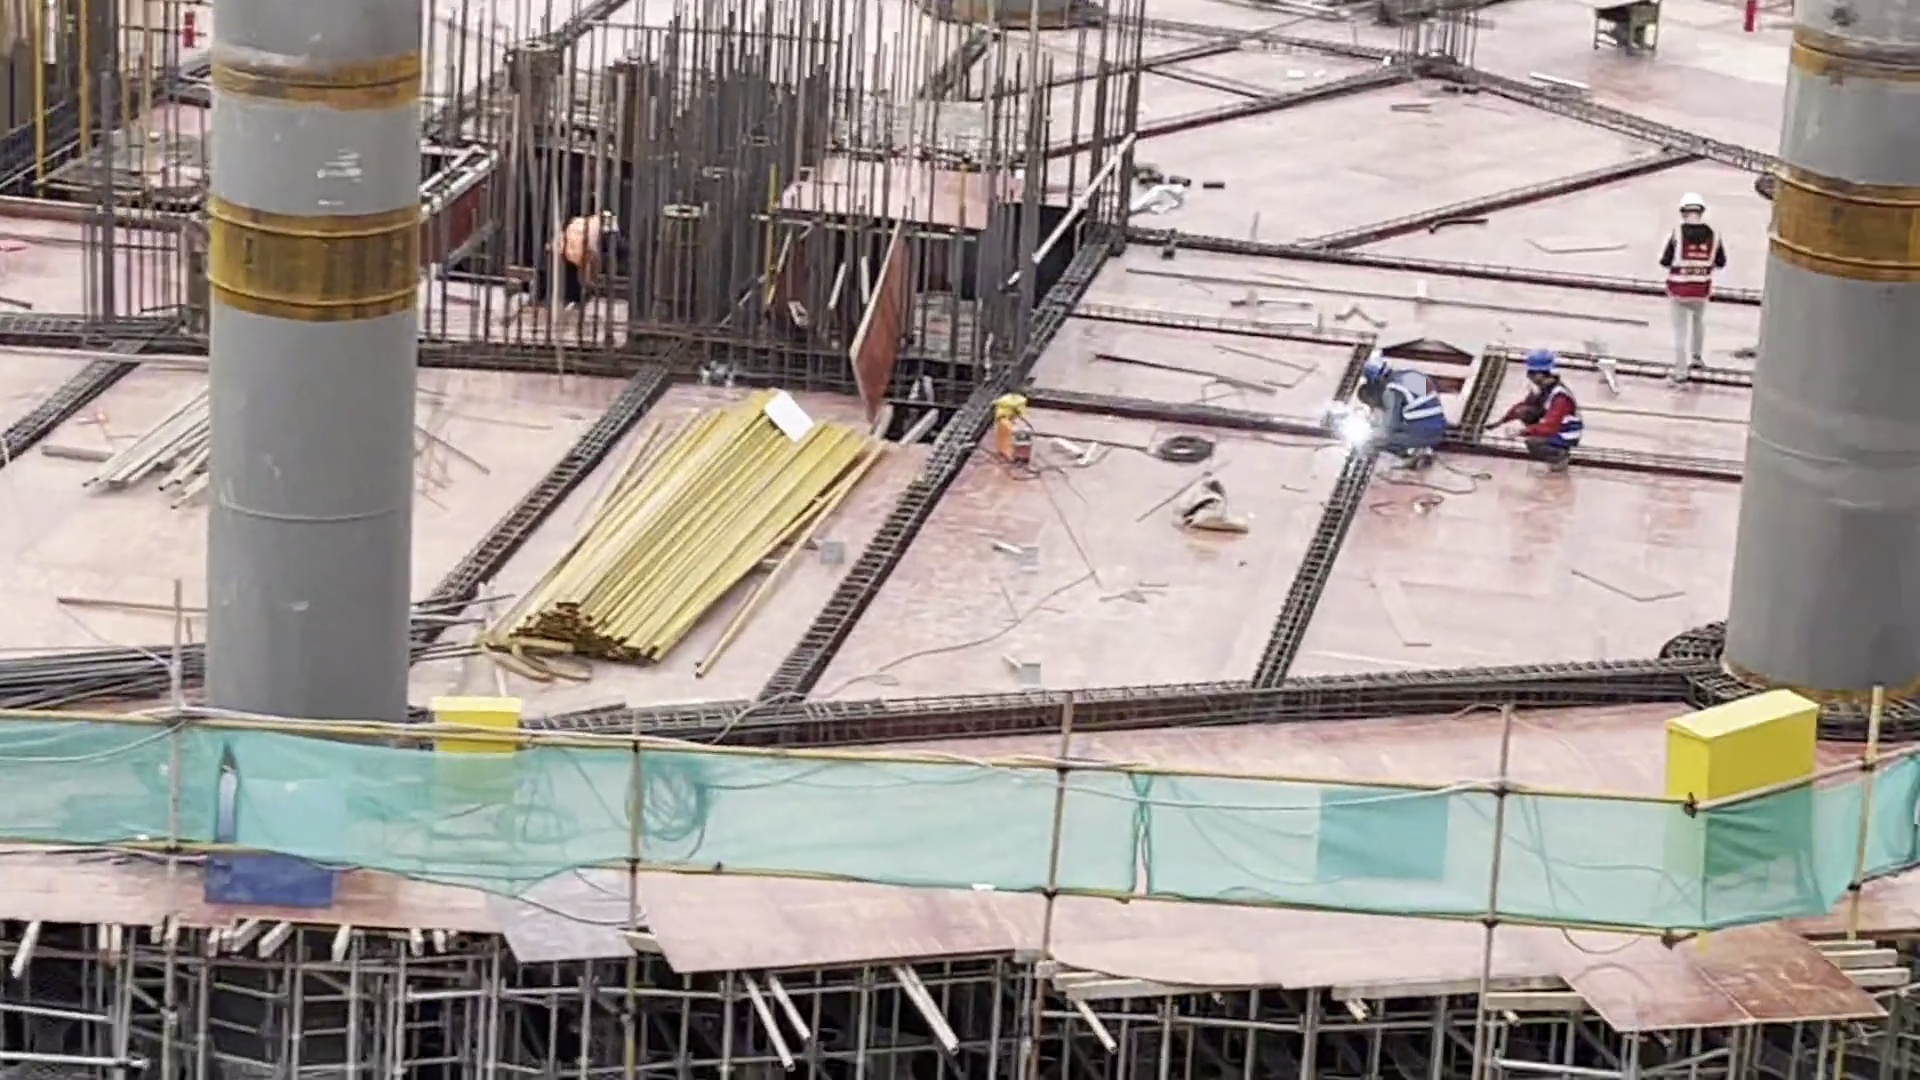ebox: (1655, 683, 1831, 937), (428, 696, 528, 876)
helmet: (1524, 345, 1559, 372), (1363, 352, 1386, 384), (1677, 190, 1707, 214)
person: (1484, 345, 1589, 479), (1664, 188, 1724, 394), (1360, 348, 1444, 474), (531, 203, 626, 305)
vest: (1665, 222, 1721, 301), (1386, 368, 1443, 445), (1528, 376, 1584, 445)
